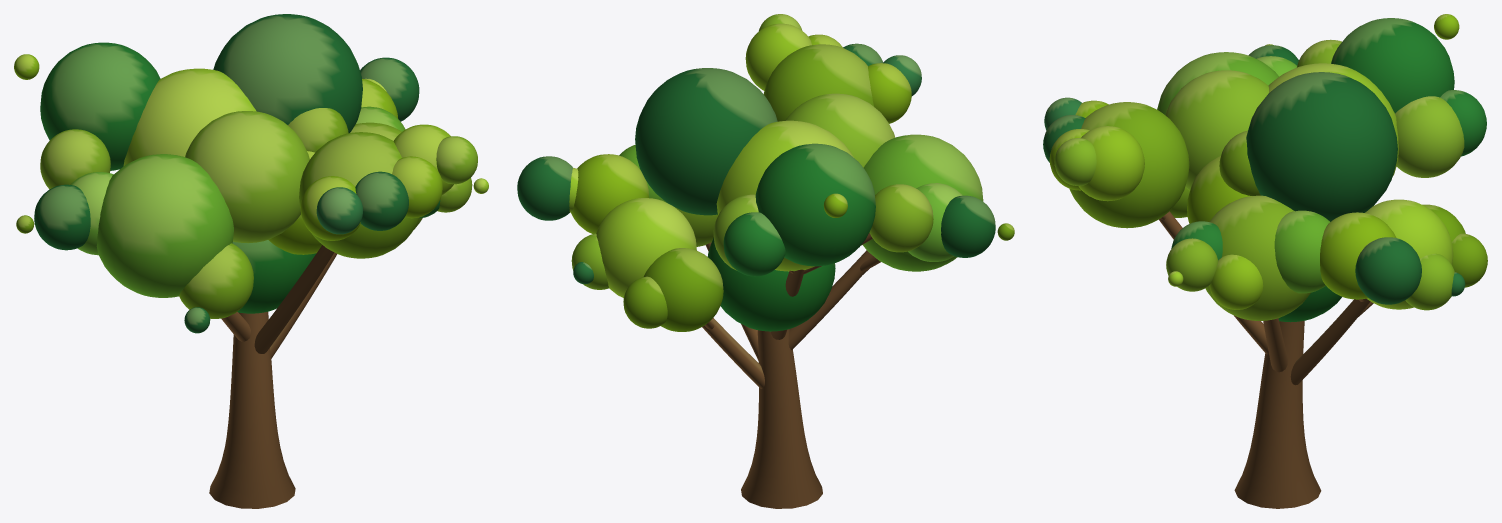
The model's file is canopy-tree-207.obj.
The picture shows the model from 3 angles, left to right: view 1: azimuth 30°, elevation 25°; view 2: azimuth 150°, elevation 25°; view 3: azimuth 270°, elevation 25°; orthographic projection. The views are drawn at different scales.
Visible parts, largest first — view 1: tree; view 2: tree; view 3: tree.
Boxes of the visible parts, x1=… form: tree: x1=14, y1=14, x2=488, y2=508; tree: x1=517, y1=14, x2=1014, y2=508; tree: x1=1043, y1=14, x2=1487, y2=508.
Bounding box in the file's own units: 497 × 458 × 420.
